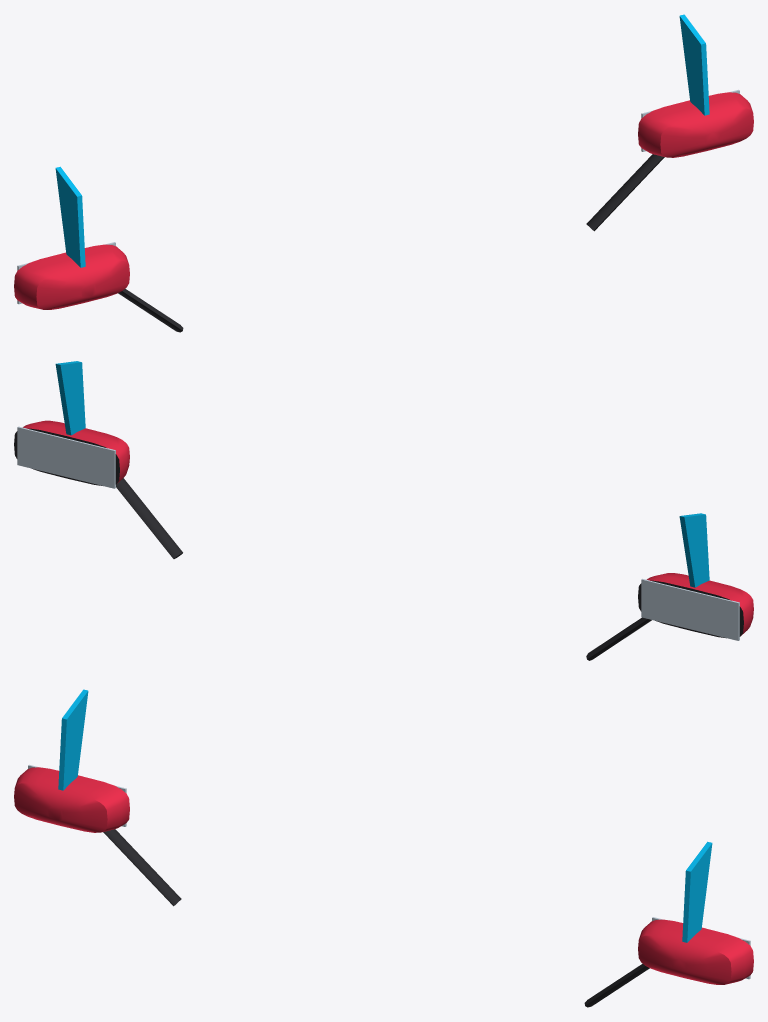
The model's file is fin.glb.
The picture shows the model from 3 angles, top to bottom: view 1: azimuth 30°, elevation 25°; view 2: azimuth 150°, elevation 25°; view 3: azimuth 330°, elevation 25°; orthographic projection.
Parts seen in each view (by area): view 1: Mirrors_fin; view 2: Mirrors_fin, MirrorGlassL.003, MirrorGlassR.003; view 3: Mirrors_fin.
Boxes of the visible parts, box(x1,y1,x2,y2) form: Mirrors_fin: box(14, 14, 753, 332); Mirrors_fin: box(14, 361, 753, 660); MirrorGlassL.003: box(17, 426, 115, 488); MirrorGlassR.003: box(641, 578, 739, 640); Mirrors_fin: box(14, 689, 753, 1007).
Size of the model in its own units: 1.17 by 0.2742 by 0.085.
